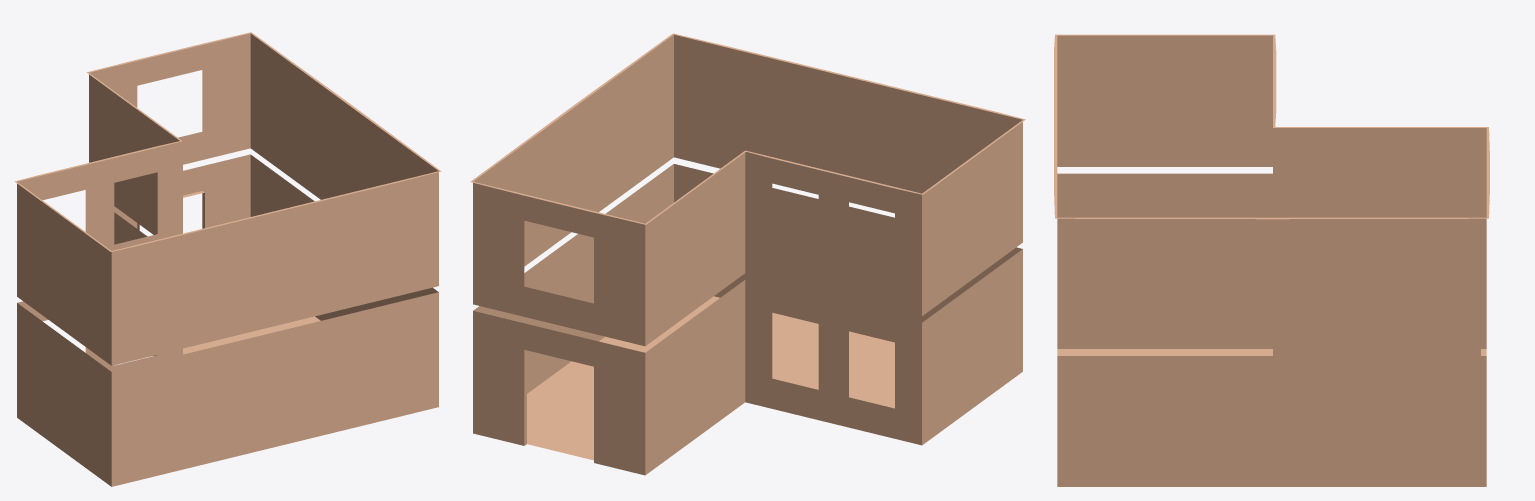
Rendered from Bld_R_low_L5_B.fbx.
3 views of the same model, side by side, from view 1: azimuth 30°, elevation 25°; view 2: azimuth 150°, elevation 25°; view 3: azimuth 270°, elevation 25° (orthographic). The views are drawn at different scales.
Parts seen in each view (by area): view 1: Bld_R_low_L5_B_LOD0; view 2: Bld_R_low_L5_B_LOD0; view 3: Bld_R_low_L5_B_LOD0.
Part boxes in pixels (x1,y1,x2,y2): Bld_R_low_L5_B_LOD0: [14, 32, 441, 486]; Bld_R_low_L5_B_LOD0: [470, 33, 1025, 475]; Bld_R_low_L5_B_LOD0: [1054, 34, 1489, 486].
Size of what is drawn, in the model's own units: 1400 by 1186 by 1498.
1 material, 1 textured.
